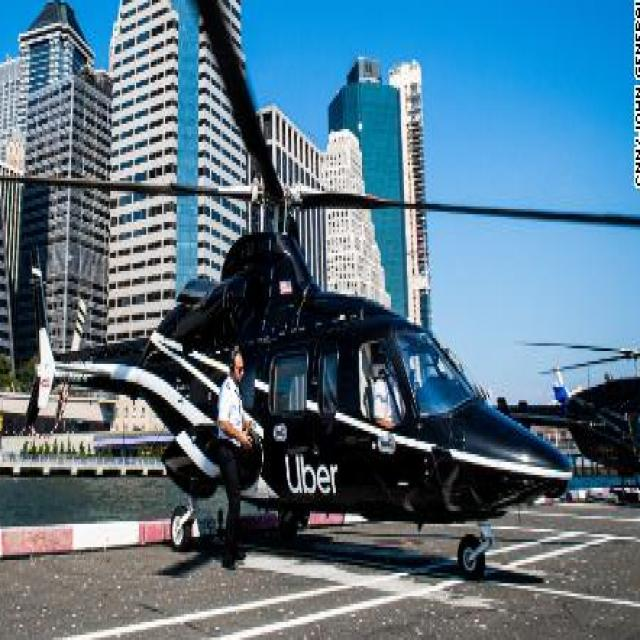helicopter: (1, 1, 640, 579)
